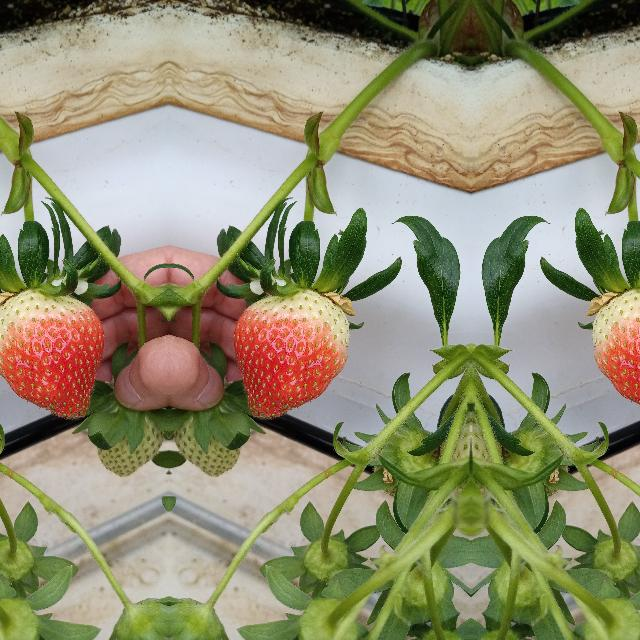Health_25: (171, 369, 253, 489), (83, 369, 165, 489)
Health_75: (231, 287, 349, 418), (0, 287, 105, 418), (592, 287, 640, 418)
